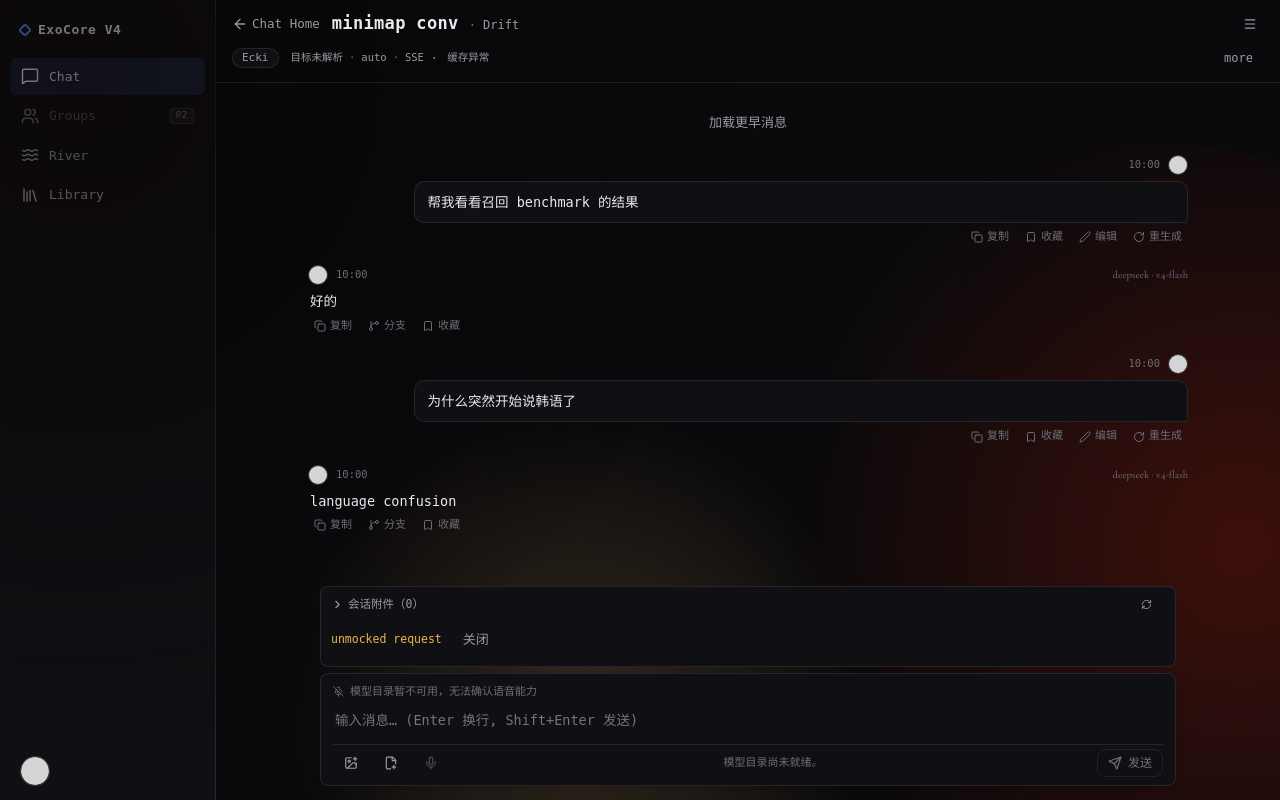
Test: MessageMinimap in the conversation page › closes on Escape and returns focus to the toggle
Expected: the text "好的" is shown, [310,293,337,309]
Click the button named "用户消息导航" at {"x": 1250, "y": 24}, box [1236,10,1264,38]
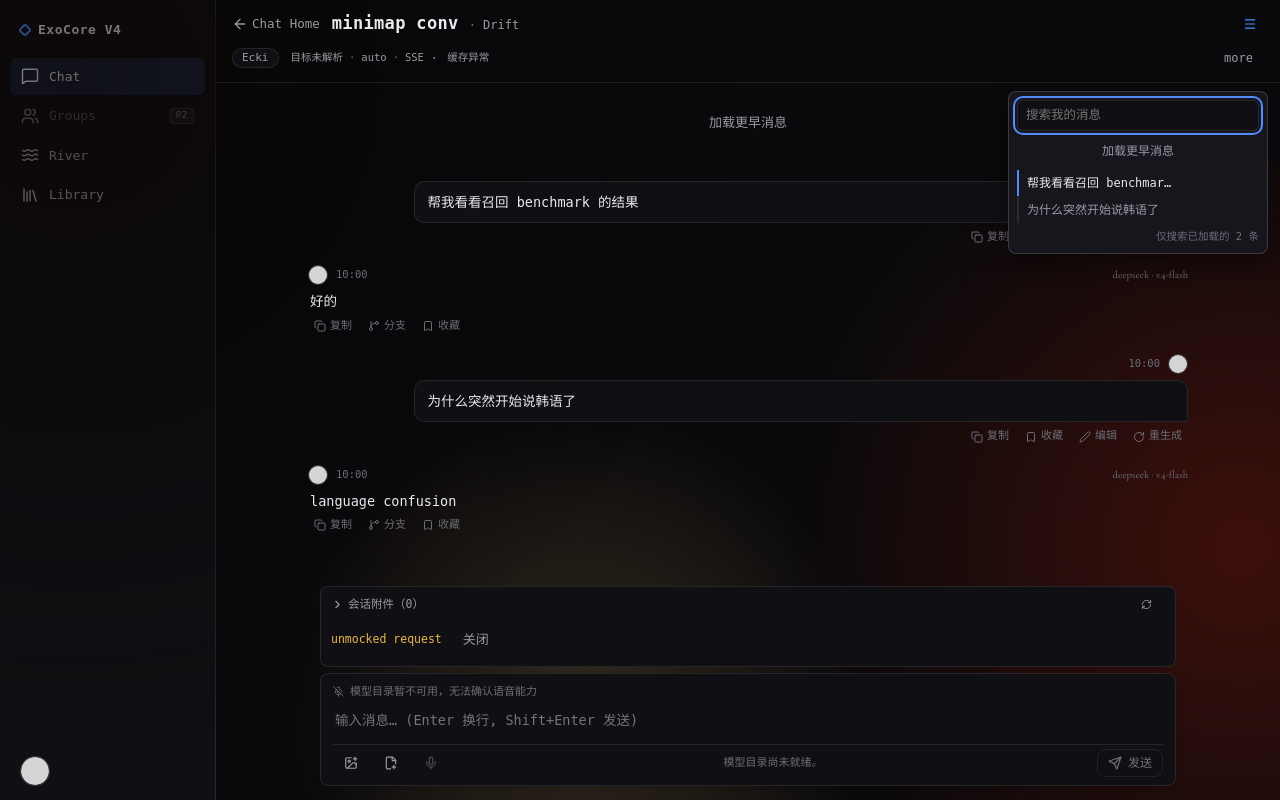
Press Escape in the search field, box [1017,100,1259,131]
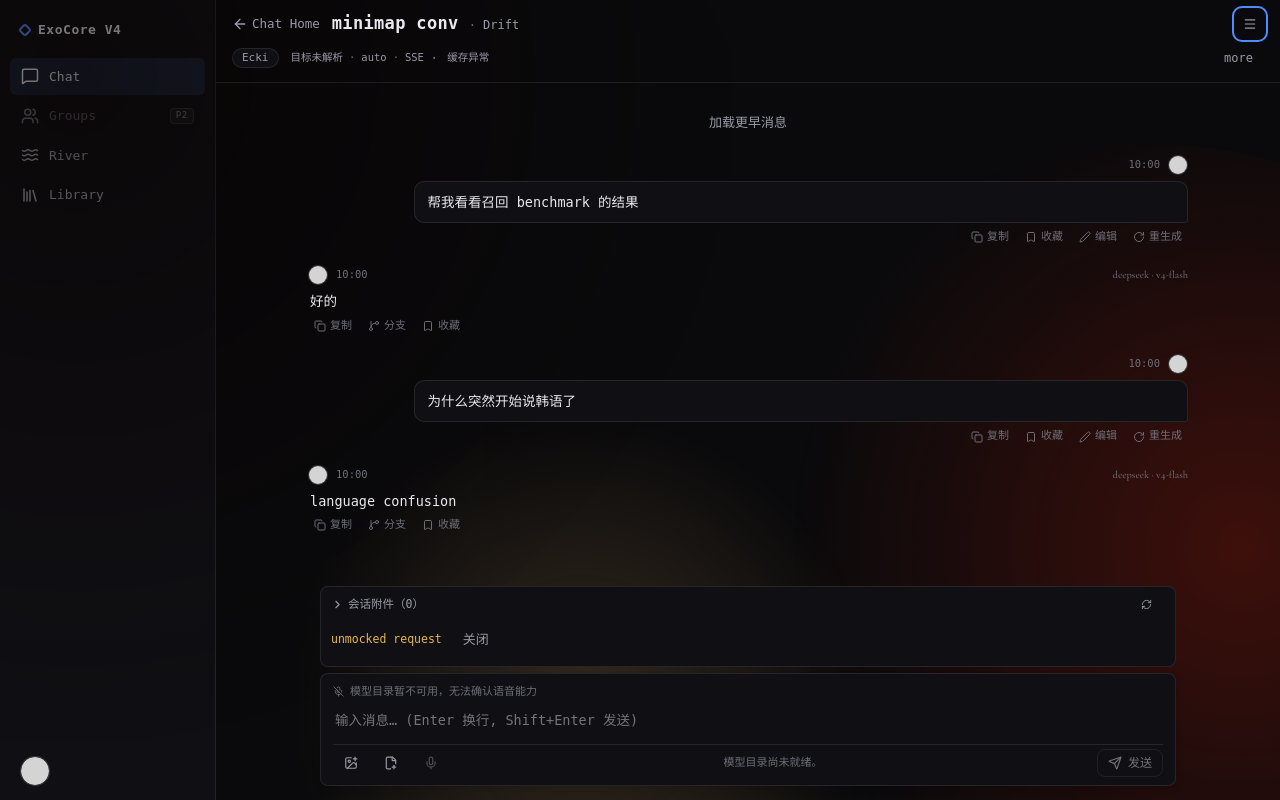
Expected: the dialog "加载更早消息 帮我看看召回 benchmar… 为什么突然开始说韩语了 仅搜索已加载的 2 条" is gone
